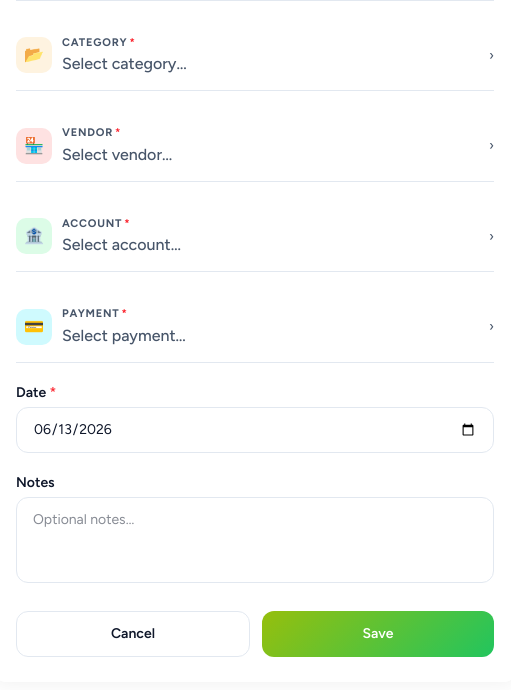
Test: TransactionForm (add mode) › shows validation error when amount is empty on submit
The width and height of the screenshot is (511, 690).
(page scrolled)
Click the button "Save": point(378, 634) [262,610,494,656]
(page scrolled)
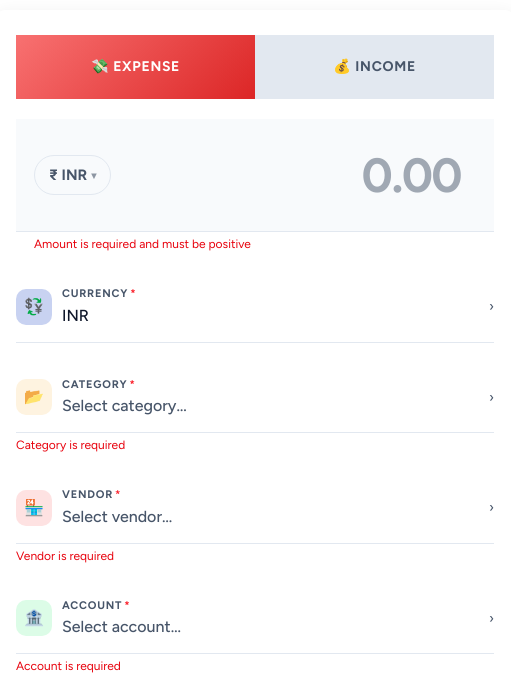
Expected: the text "Amount is required and must be positive" is shown, [34,237,251,251]
